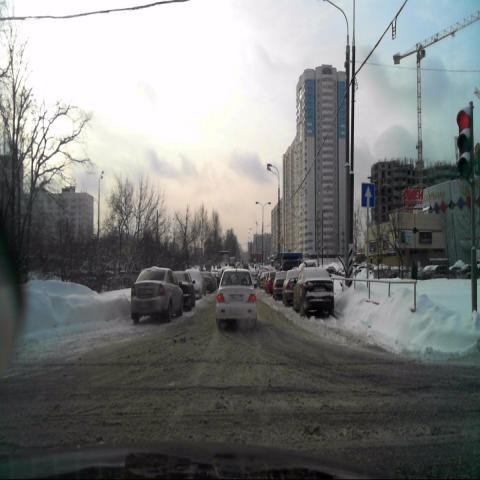5_5: (360, 181, 375, 208)
